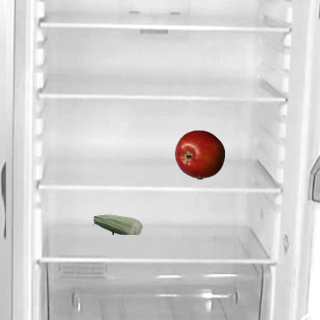Apple Braeburn: (174, 129, 224, 179)
Corn Husk: (92, 199, 142, 249)
